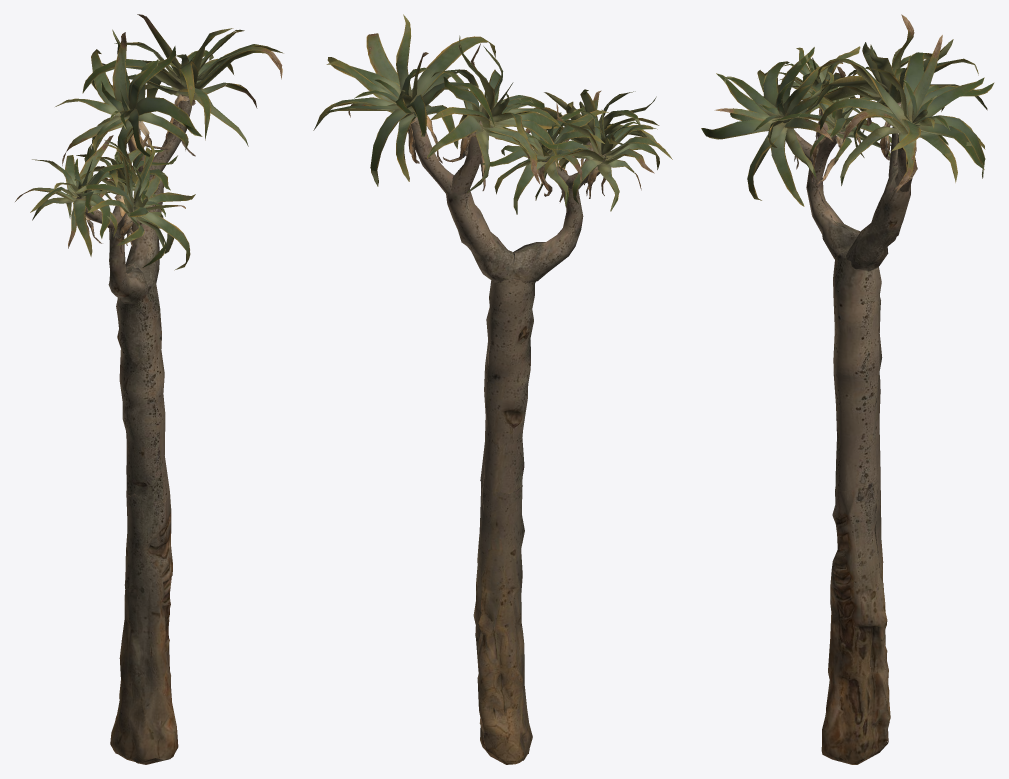
The model's file is quiver_tree_01.gltf.
3 renders of one model, left to right at view 1: azimuth 30°, elevation 25°; view 2: azimuth 150°, elevation 25°; view 3: azimuth 270°, elevation 25°, orthographic. The views are drawn at different scales.
Parts seen in each view (by area): view 1: quiver_tree_01; view 2: quiver_tree_01; view 3: quiver_tree_01.
Part boxes in pixels (left/top/right/bottom): quiver_tree_01: left=15, top=14, right=283, bottom=764; quiver_tree_01: left=313, top=14, right=672, bottom=764; quiver_tree_01: left=701, top=14, right=994, bottom=764.
Size of the model in its own units: 1.18 by 2.71 by 0.9707.
2 materials, 2 textured.
